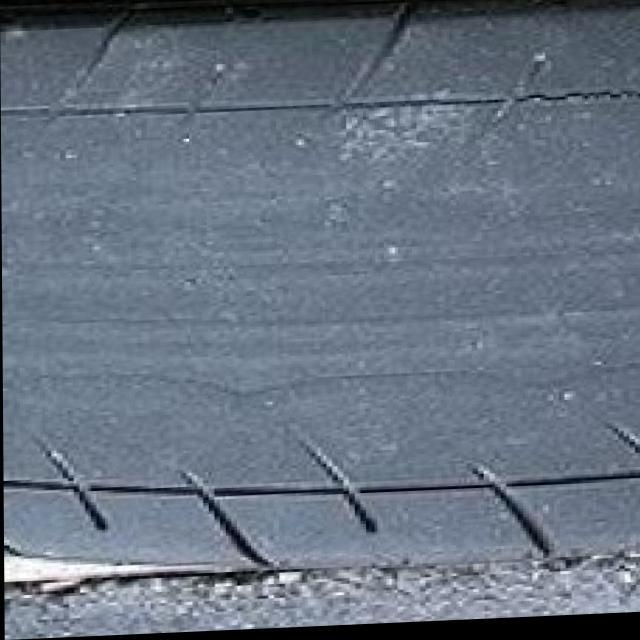Flat spots: (0, 15, 639, 490)
